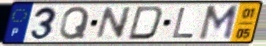3: (29, 5, 62, 42)
D: (126, 5, 165, 41)
L: (170, 6, 196, 40)
M: (196, 4, 241, 42)
N: (93, 6, 134, 41)
Q: (58, 5, 92, 41)
